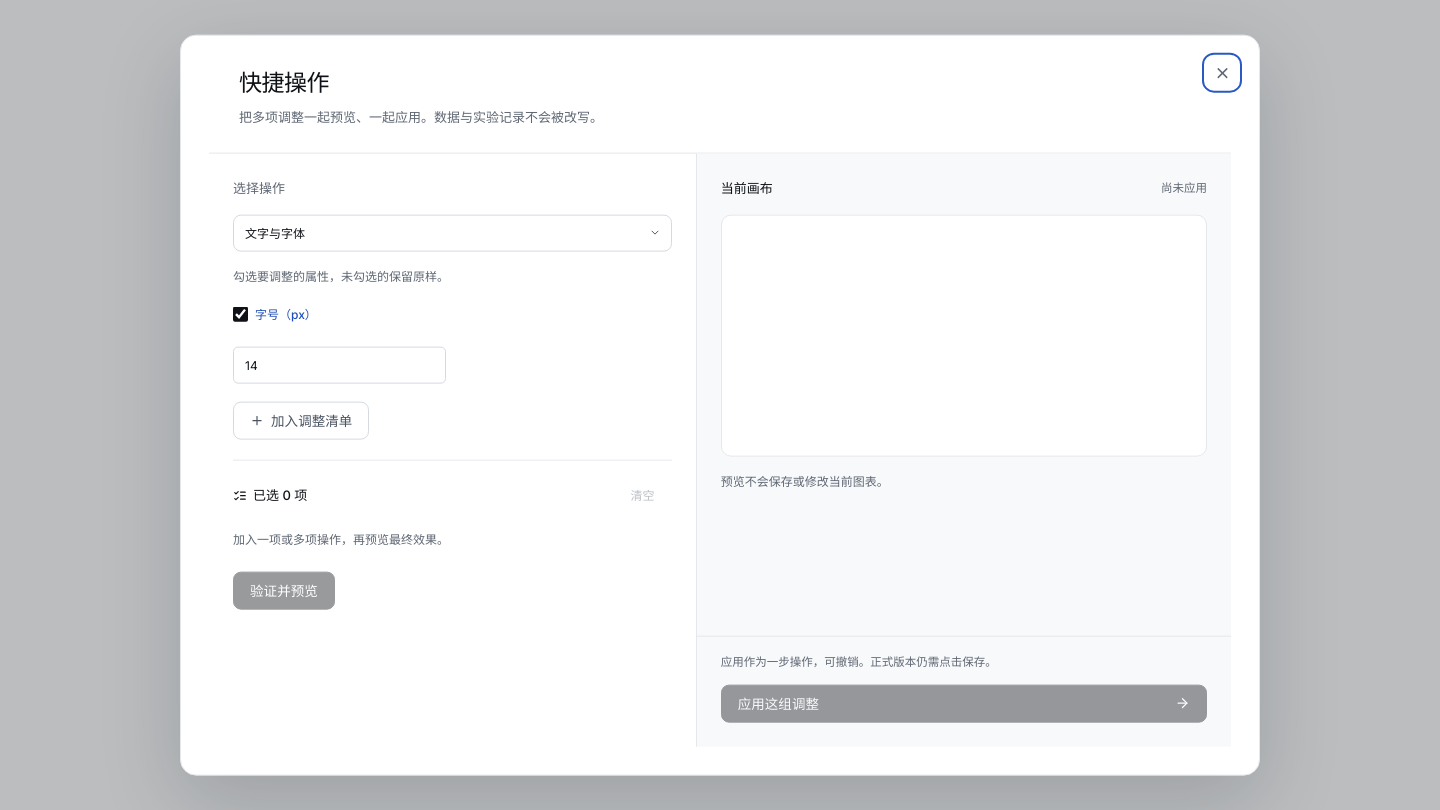
it: figure tool preparation › stale local snapshots and server conflicts retain edits for re-preview
Expected: the number field named "字号（px）" is shown, [233,346,446,383]
Step 1. Click the button "加入调整清单" → point(301, 420), box [233,401,369,439]
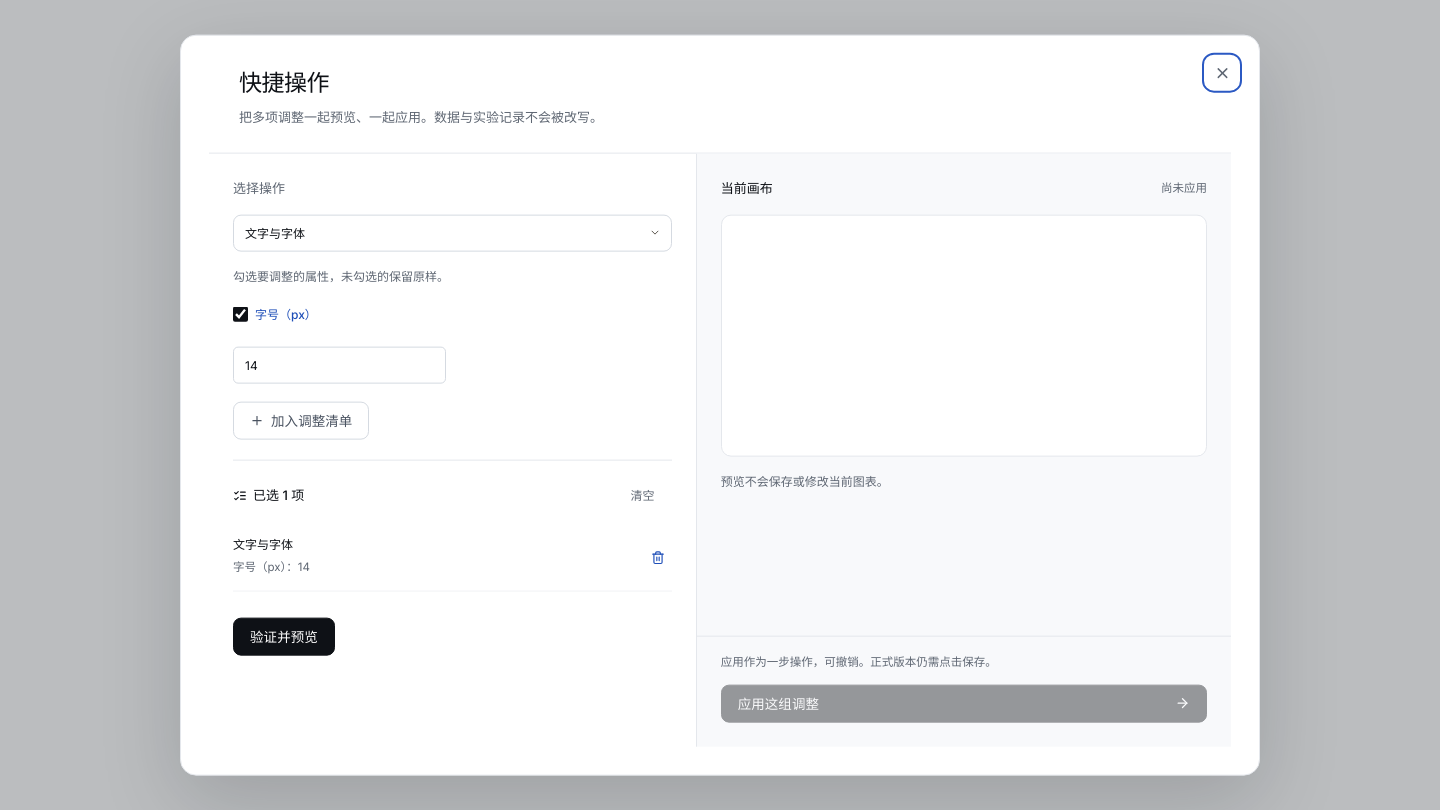
Step 2. Click the button "验证并预览" → point(284, 637), box [233,618,335,656]
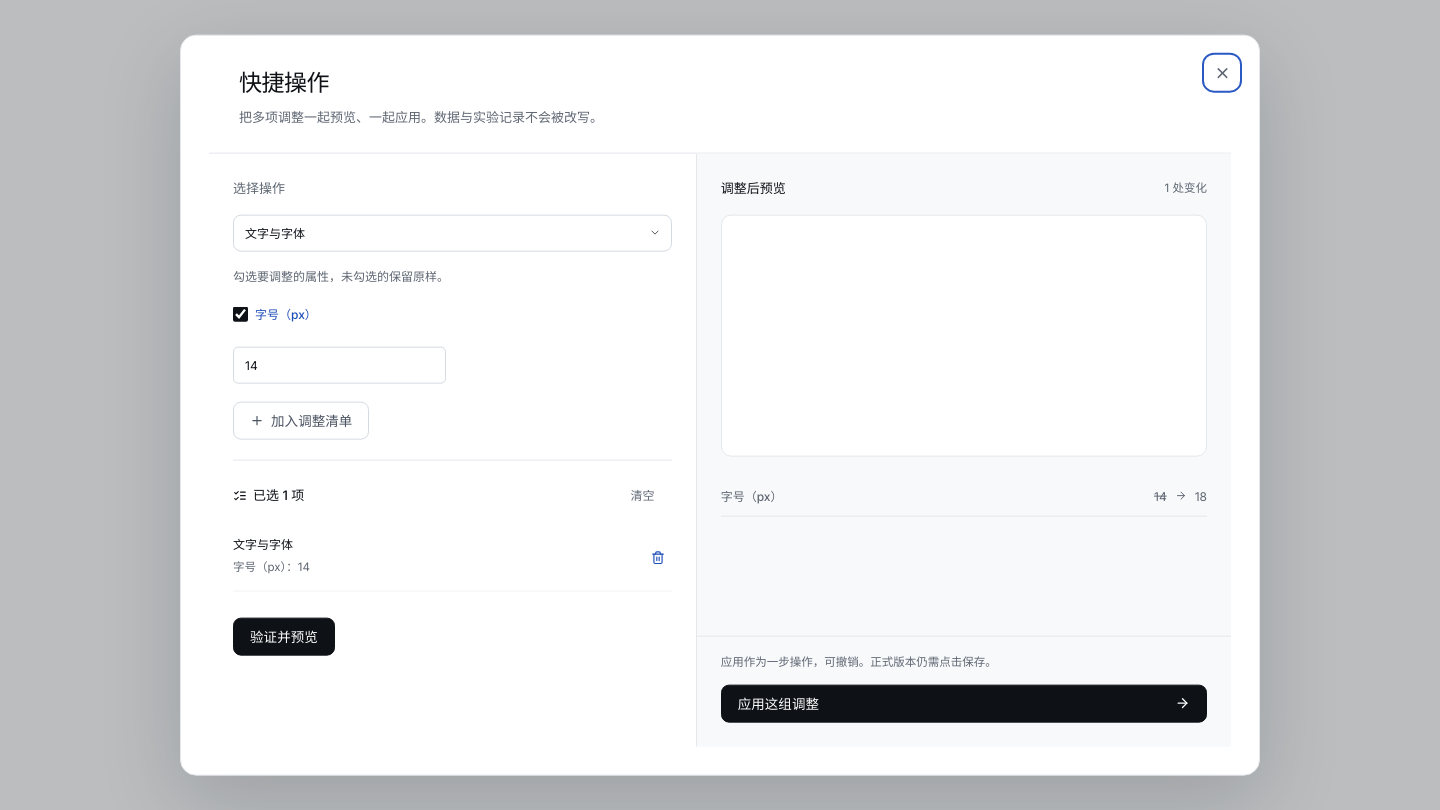
Expected: the button "应用这组调整" is enabled
Step 3. Click the button "应用这组调整" → point(778, 703), box [721,684,1207,722]
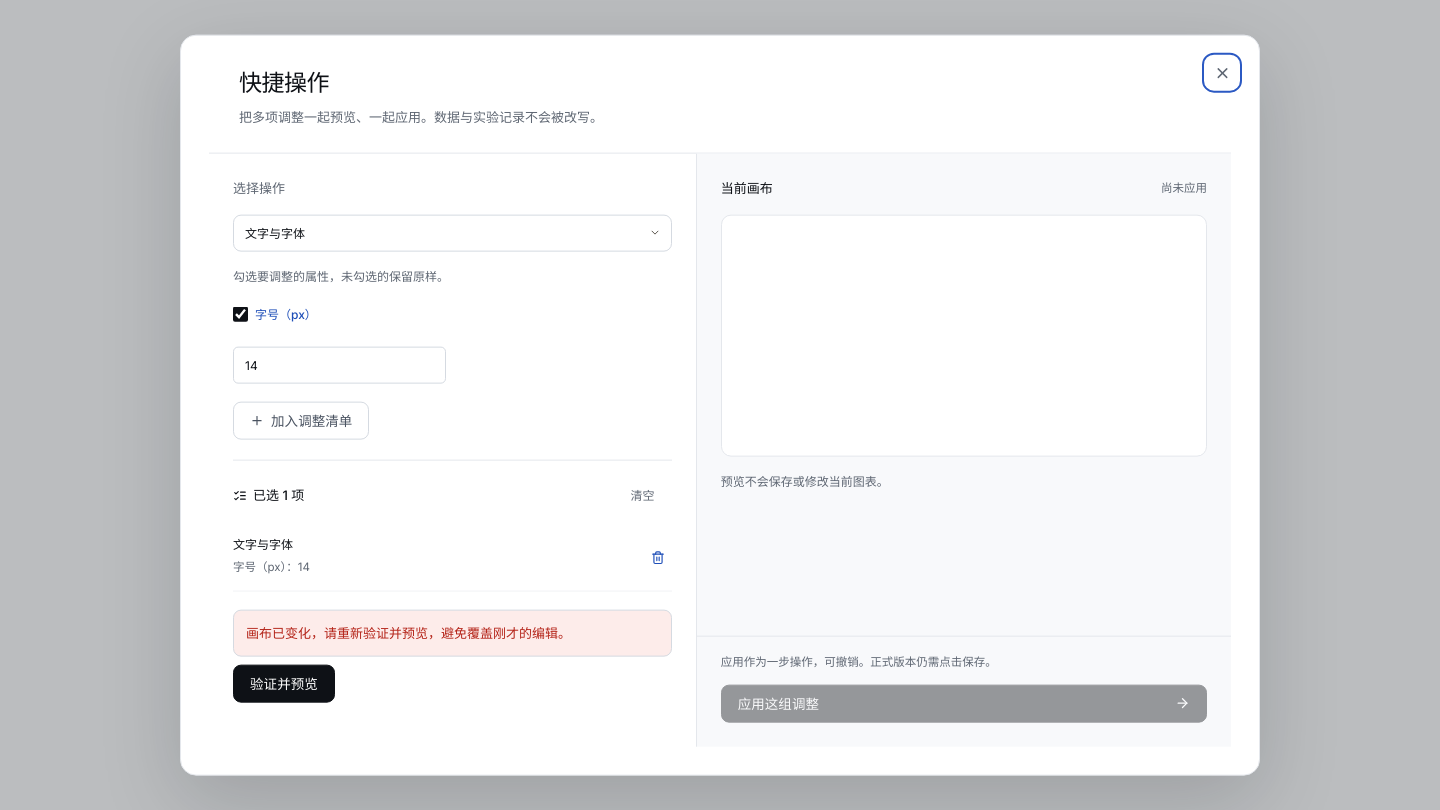
Expected: the button "验证并预览" is enabled, [233,665,335,703]
Expected: the message shows "画布已变化", [246,625,571,641]
